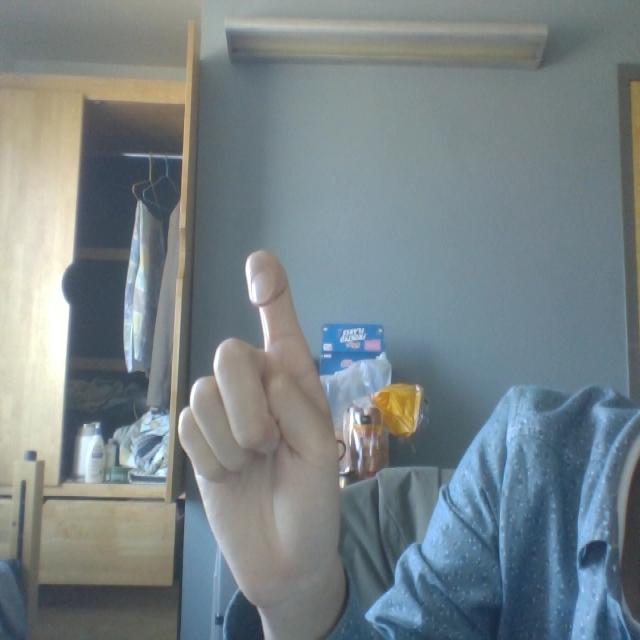X: (76, 218, 413, 616)
